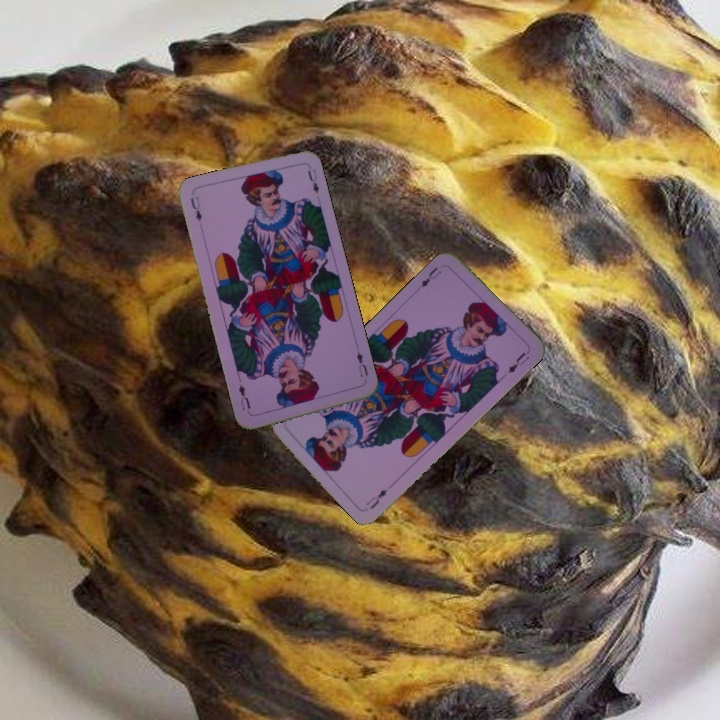EU: (362, 485, 390, 512), (417, 263, 444, 290), (352, 347, 371, 380), (186, 192, 204, 224)
